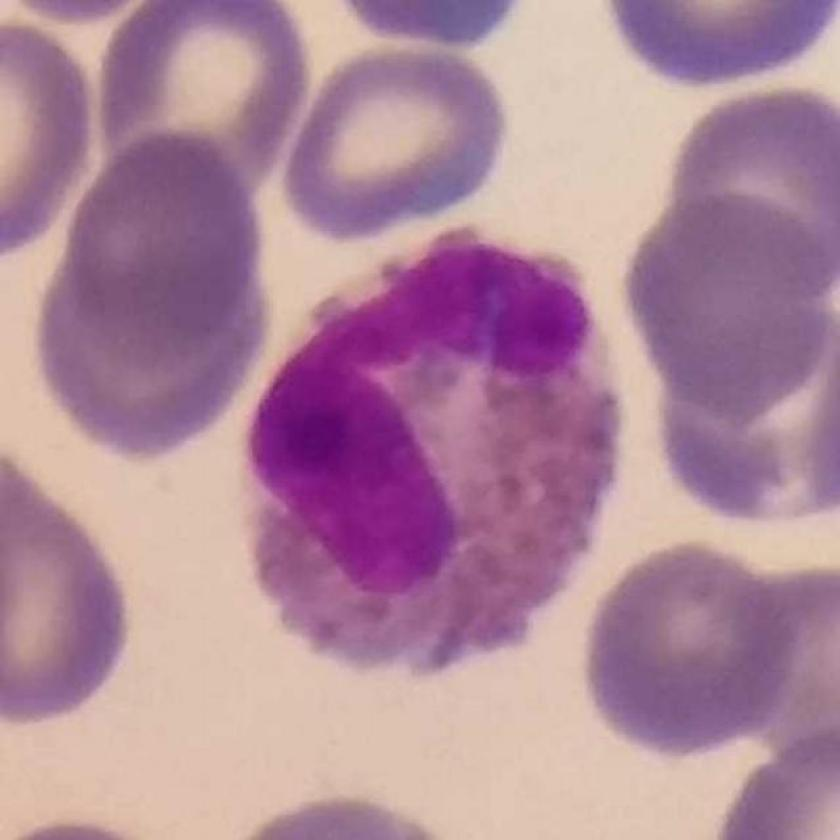eosinophil: (243, 227, 629, 681)
